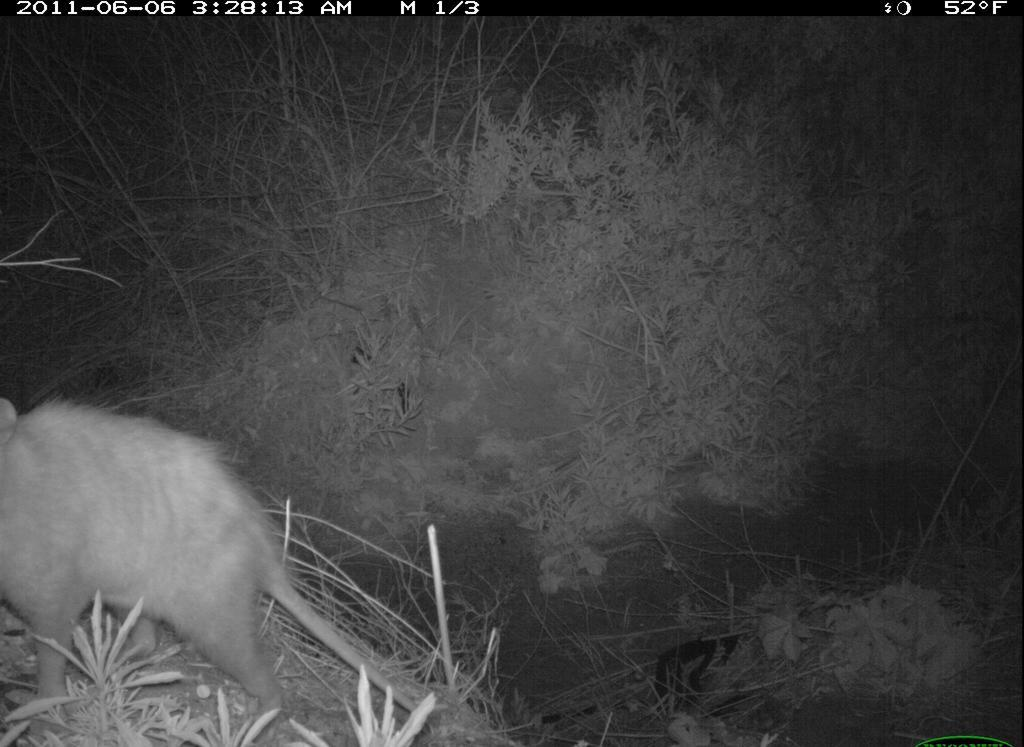opossum: (3, 388, 431, 735)
